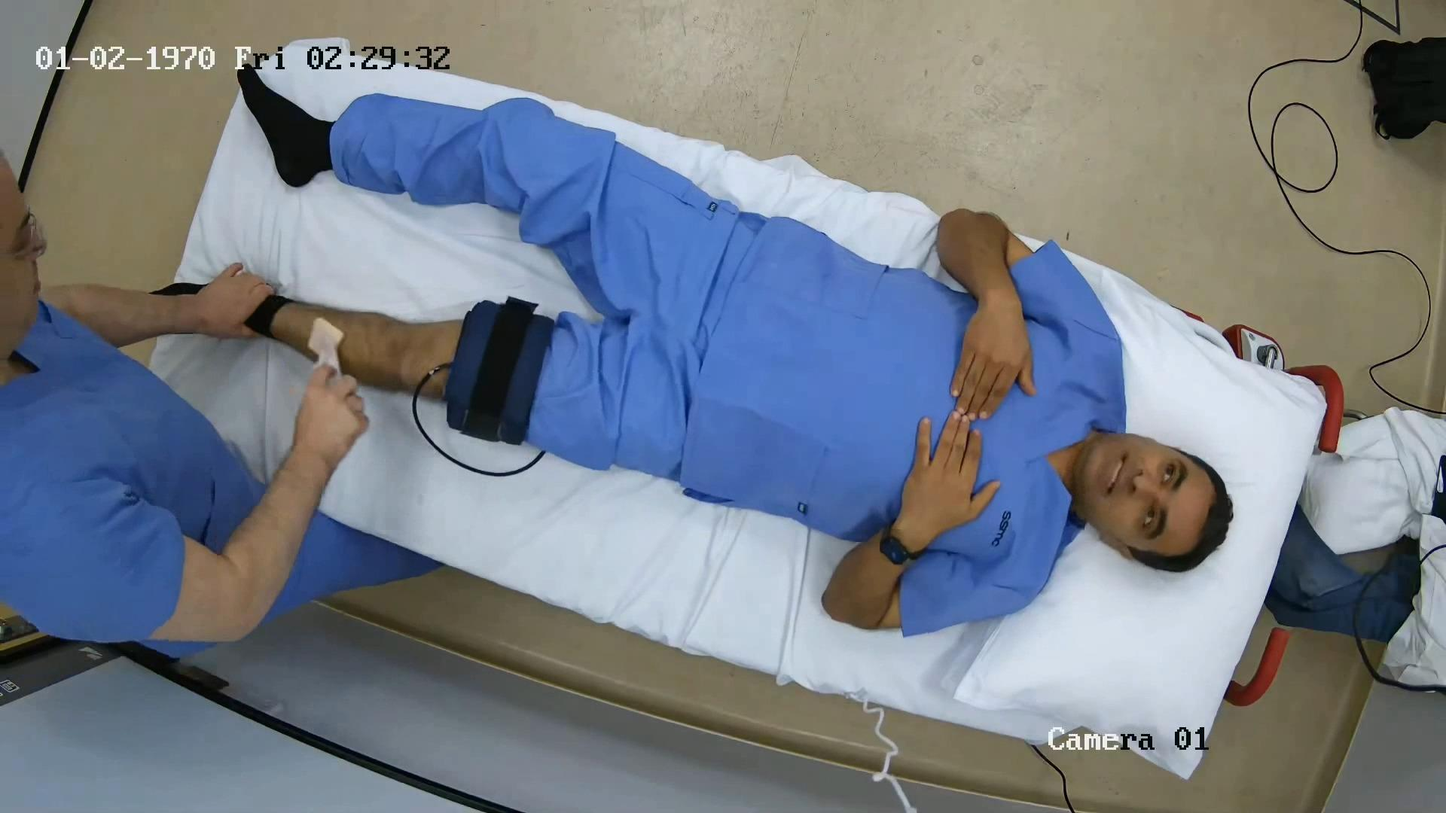patient: (136, 70, 1324, 775), (242, 96, 1234, 636)
prepstick: (307, 318, 343, 371)
tourniquet: (444, 298, 554, 444)
